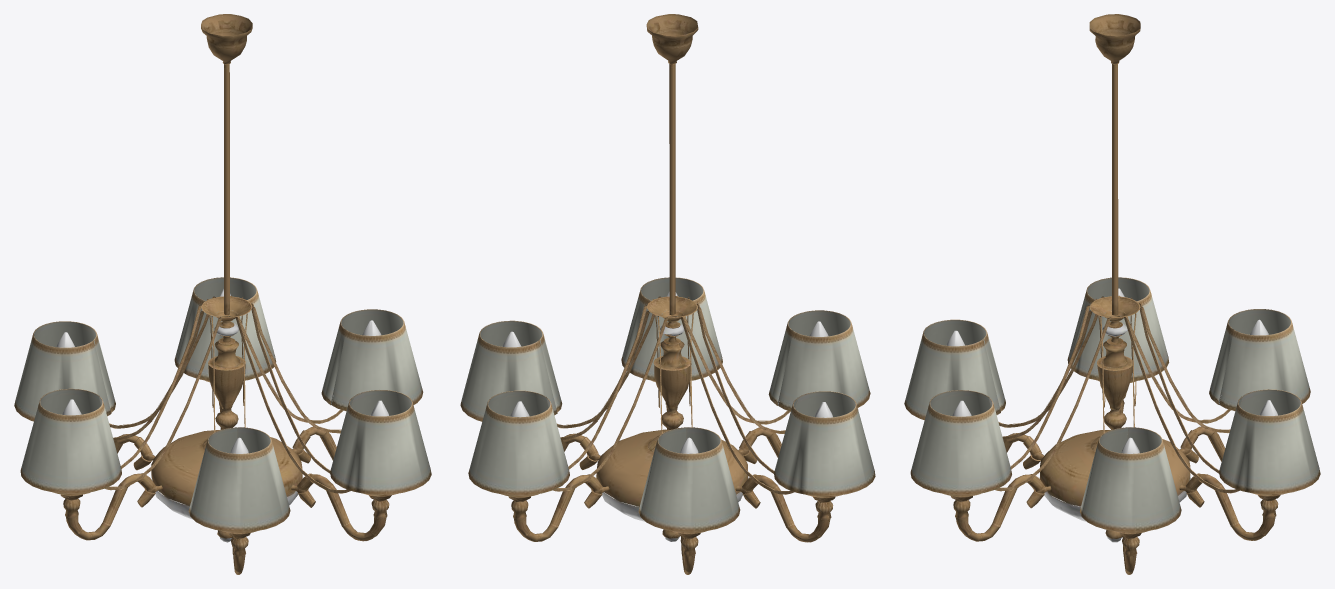
Rendered from ph_chandelier_02.glb.
3 renders of one model, left to right at view 1: azimuth 30°, elevation 25°; view 2: azimuth 150°, elevation 25°; view 3: azimuth 270°, elevation 25°, orthographic.
Parts seen in each view (by area): view 1: Chandelier_02; view 2: Chandelier_02; view 3: Chandelier_02.
Part boxes in pixels (x1=…): Chandelier_02: x1=14, y1=14, x2=431, y2=574; Chandelier_02: x1=460, y1=14, x2=875, y2=574; Chandelier_02: x1=904, y1=14, x2=1320, y2=574.
Bounding box in the file's own units: 0.6791 × 0.848 × 0.6194.
2 materials, 1 textured.
